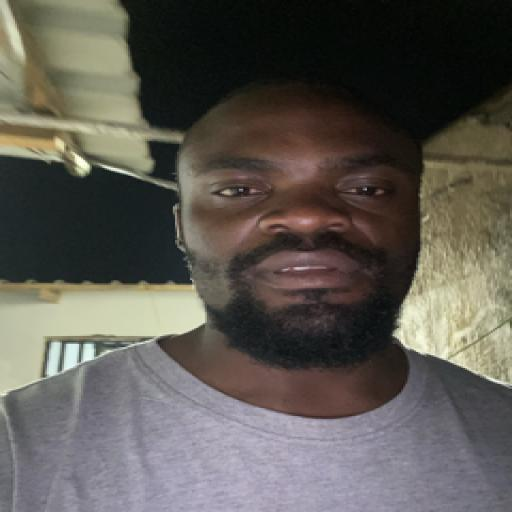JEANLUC: (179, 69, 435, 373)
